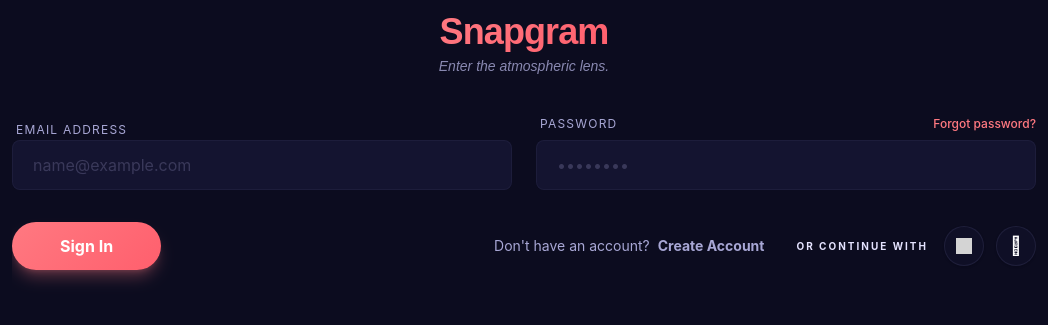
Test: SignInForm › should display validation errors for required fields
Click the button "Sign In" at [87, 246], box left=12, top=222, right=161, bottom=270
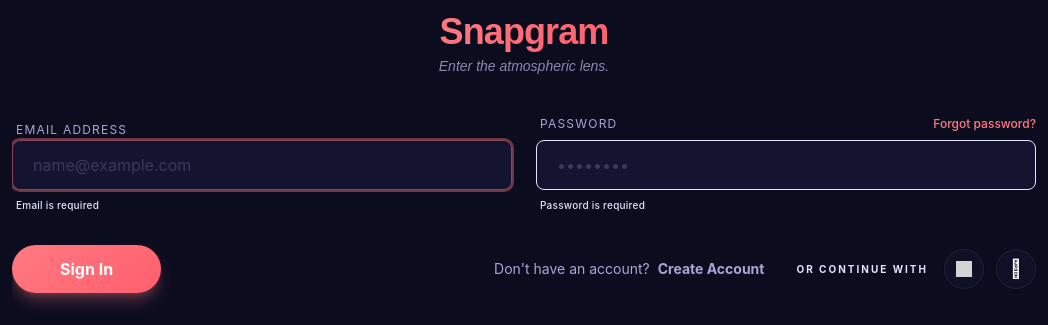
Check: the text "Email is required" is shown, box left=16, top=199, right=99, bottom=211
Check: the text "Password is required" is shown, box left=540, top=199, right=645, bottom=211
